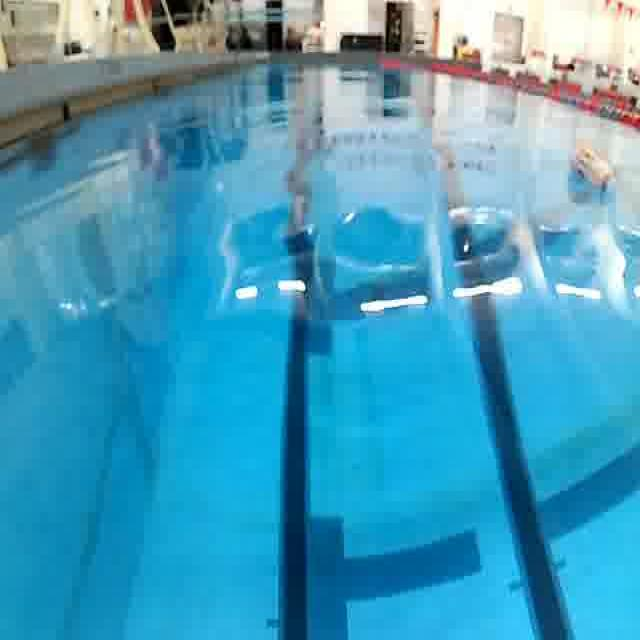Bottle: (562, 130, 625, 212)
